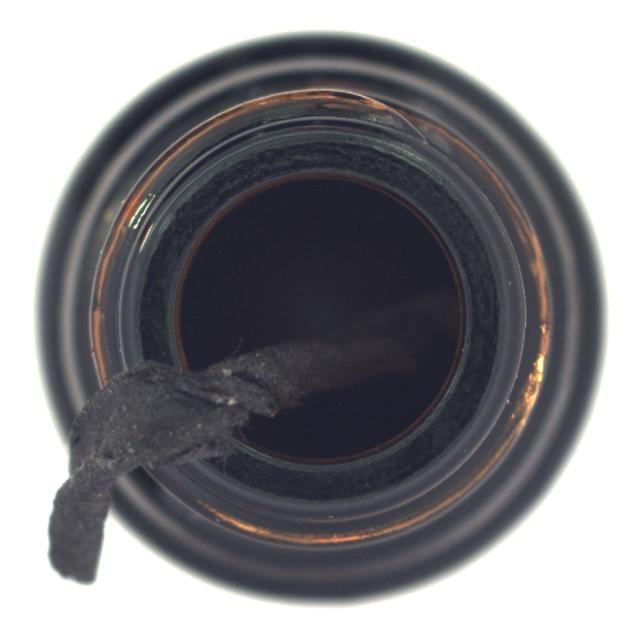bad-contamination: (34, 29, 610, 609)
